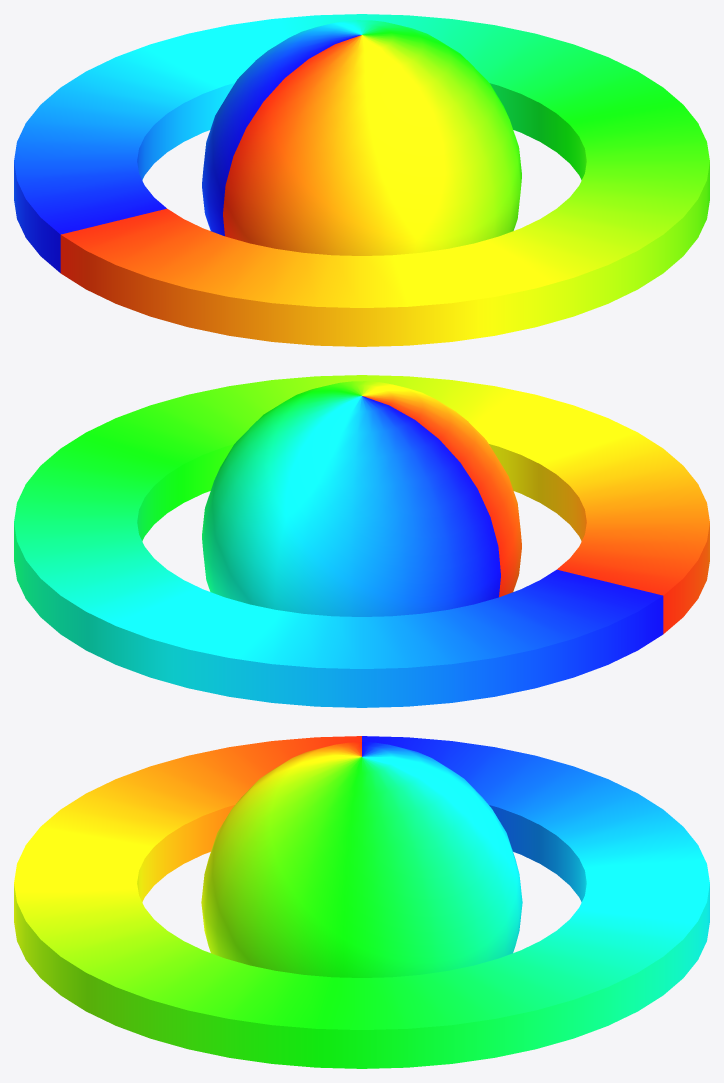
Rendered from item-6-11.glb.
3 renders of one model, top to bottom at view 1: azimuth 30°, elevation 25°; view 2: azimuth 150°, elevation 25°; view 3: azimuth 270°, elevation 25°, orthographic.
Parts seen in each view (by area): view 1: plat, planet; view 2: plat, planet; view 3: plat, planet.
Part boxes in pixels (left/top/right/bottom): plat: left=14, top=14, right=709, bottom=346; planet: left=202, top=20, right=521, bottom=255; plat: left=14, top=375, right=709, bottom=707; planet: left=202, top=381, right=521, bottom=616; plat: left=14, top=736, right=709, bottom=1068; planet: left=201, top=742, right=522, bottom=977.
Bounding box in the file's own units: 1.3 × 0.6 × 1.3.
2 materials, 2 textured.
